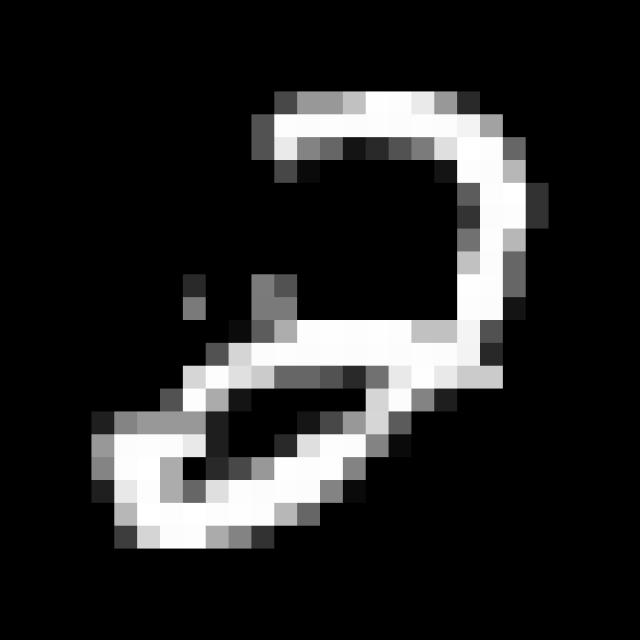two -2-: (84, 75, 550, 561)
